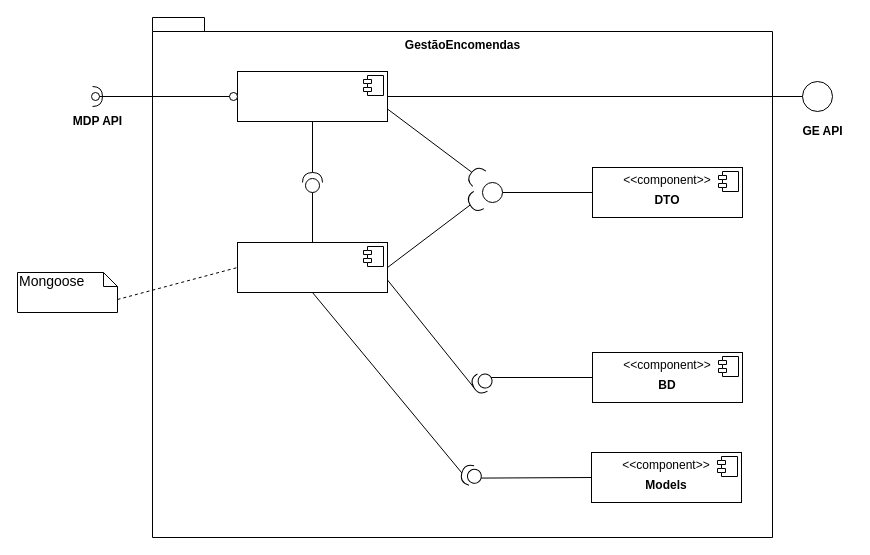
The diagram is 870 pixels wide and 555 high, and some of its shapes have lost their labels. The centre of each missing label's shape, as x and y in pixels:
"<<component>> Controller" belongs at point 312,96.
"<<component>> Services" belongs at point 312,267.
